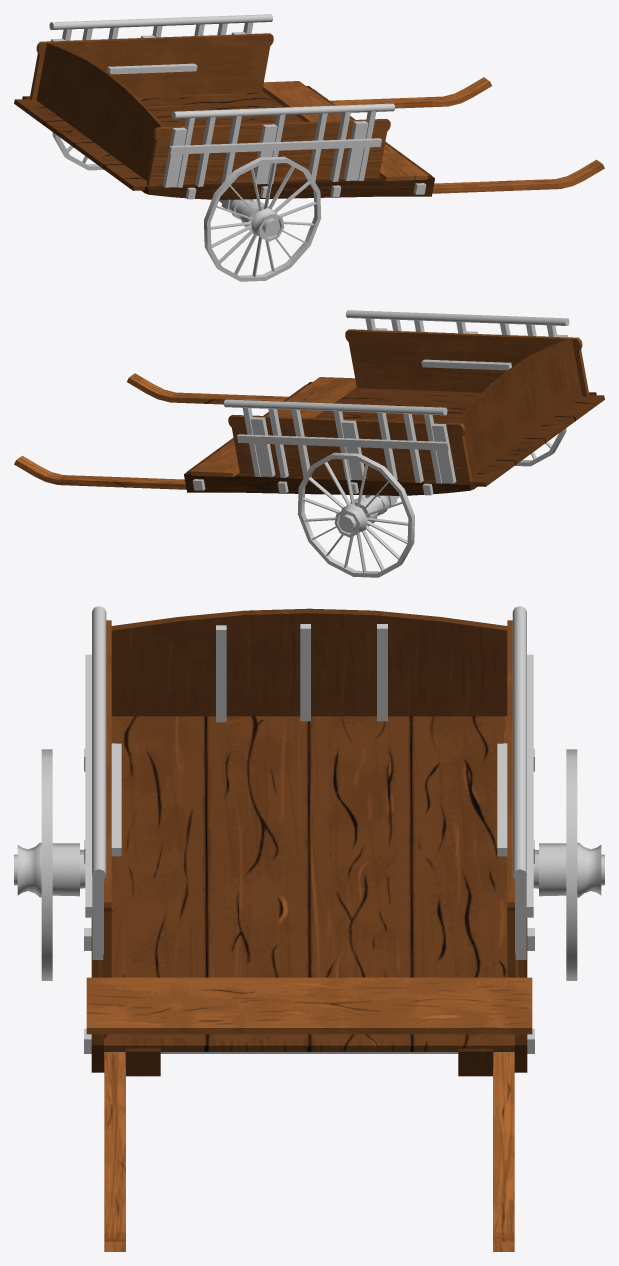
The model's file is carro.fbx.
The picture shows the model from 3 angles, top to bottom: view 1: azimuth 30°, elevation 25°; view 2: azimuth 150°, elevation 25°; view 3: azimuth 270°, elevation 25°; orthographic projection. The views are drawn at different scales.
Parts seen in each view (by area): view 1: carro; view 2: carro; view 3: carro.
Boxes of the visible parts, box(x1,y1,x2,y2) form: carro: box(14, 14, 604, 281); carro: box(14, 310, 604, 577); carro: box(14, 606, 604, 1251).
Size of the model in its own units: 441 by 156 by 277.
